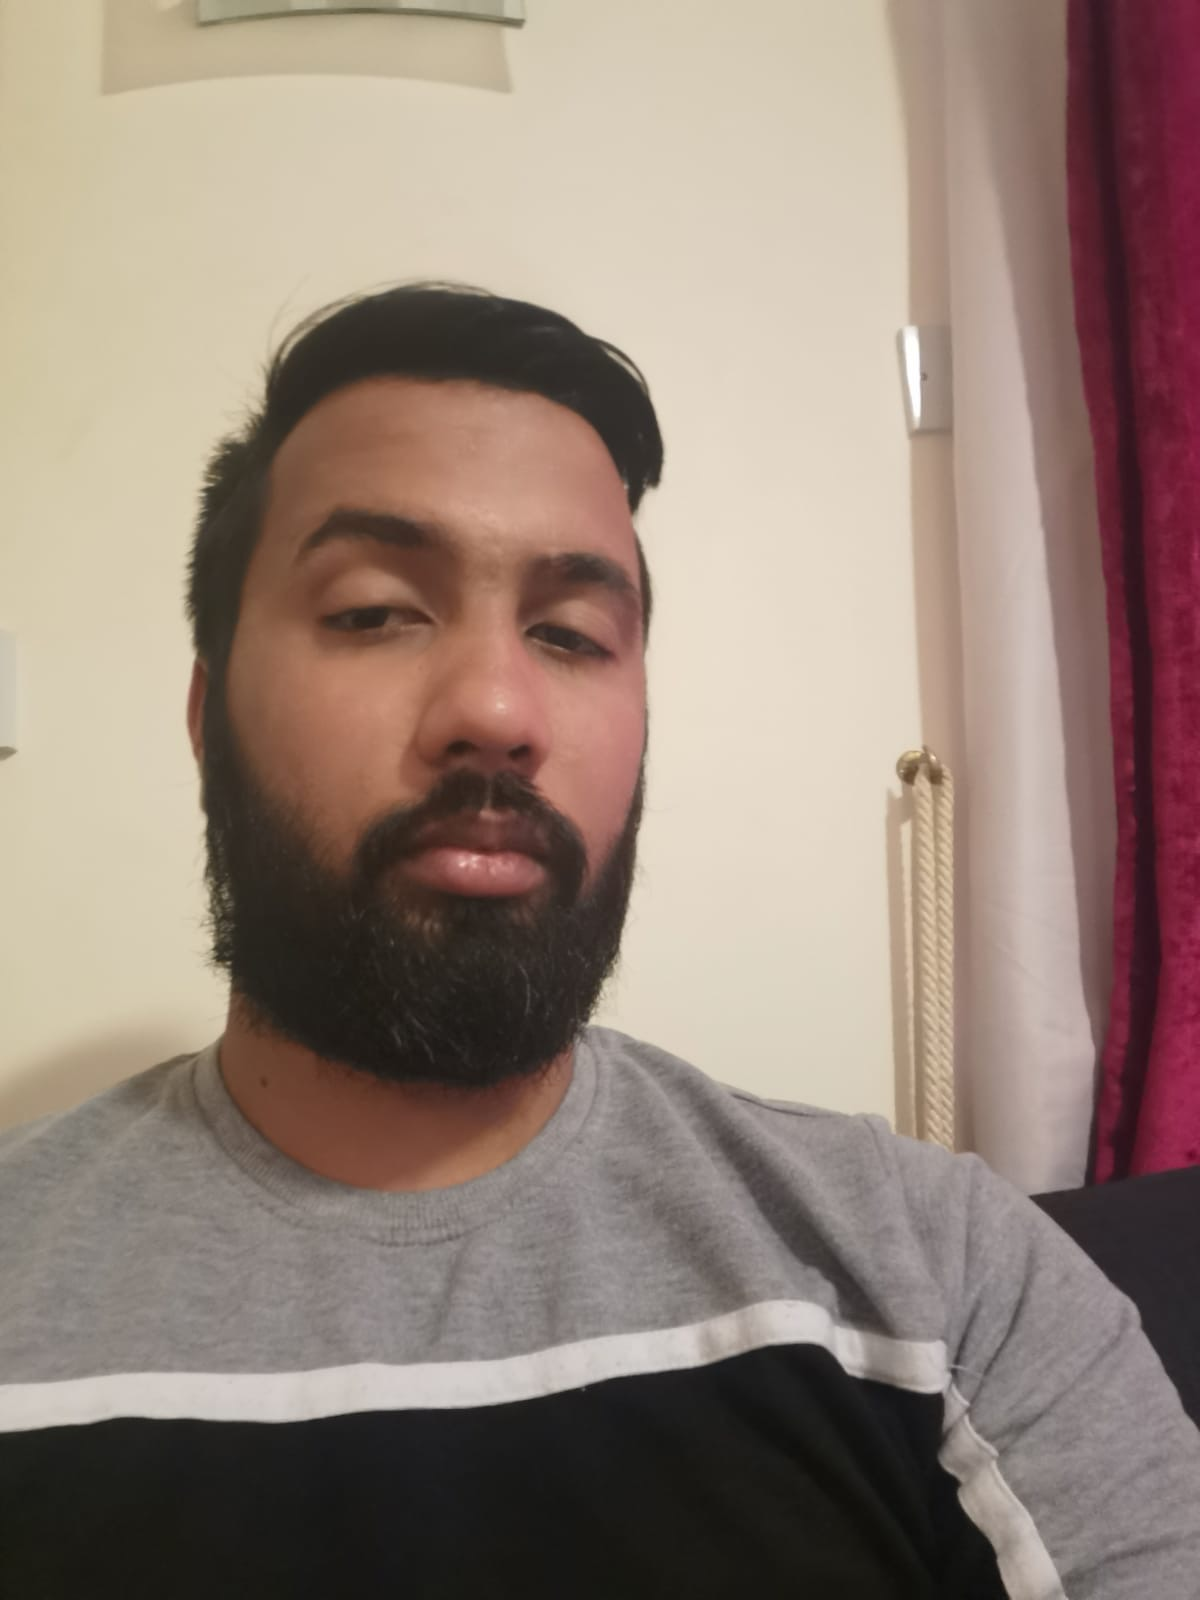Half Asleep: (268, 546, 650, 683)
